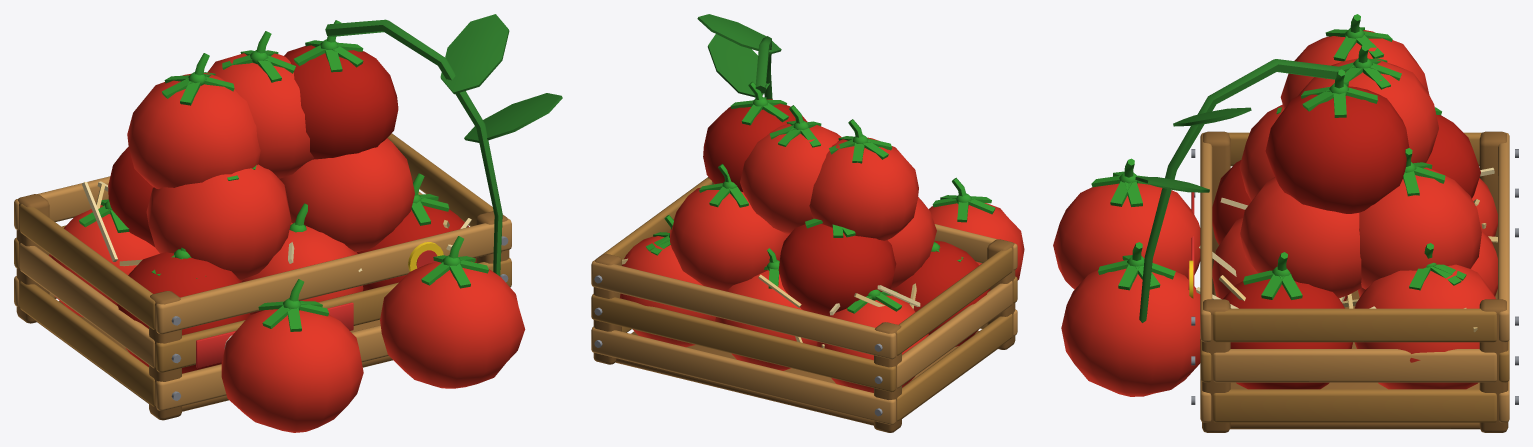
Rendered from dispenser_tomatoes.glb.
3 views of the same model, side by side, from view 1: azimuth 30°, elevation 25°; view 2: azimuth 150°, elevation 25°; view 3: azimuth 270°, elevation 25° (orthographic). The views are drawn at different scales.
Parts seen in each view (by area): view 1: DispenserTomatoes; view 2: DispenserTomatoes; view 3: DispenserTomatoes.
Part boxes in pixels (<box>): DispenserTomatoes: <box>14,14,562,432</box>; DispenserTomatoes: <box>591,14,1024,432</box>; DispenserTomatoes: <box>1053,14,1518,432</box>.
Bounding box in the file's own units: 5.77 × 4.6 × 5.87.
